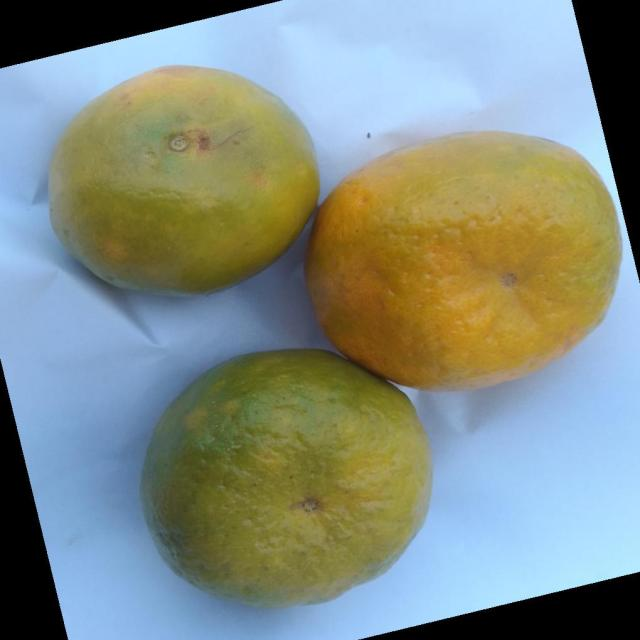fresh orange: (304, 128, 622, 392), (139, 346, 433, 609), (46, 63, 320, 297)
